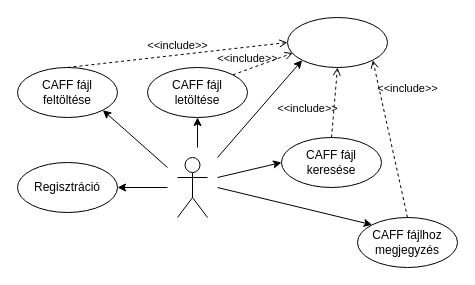
Some shapes in this 475 by 285 pixel diagram are drawn without their labels. Here are the shapes that lost their labels. From the top down, the centre of each, then its label:
the point at 337,42: Bejelentkezés
the point at 192,187: Felhasználó
